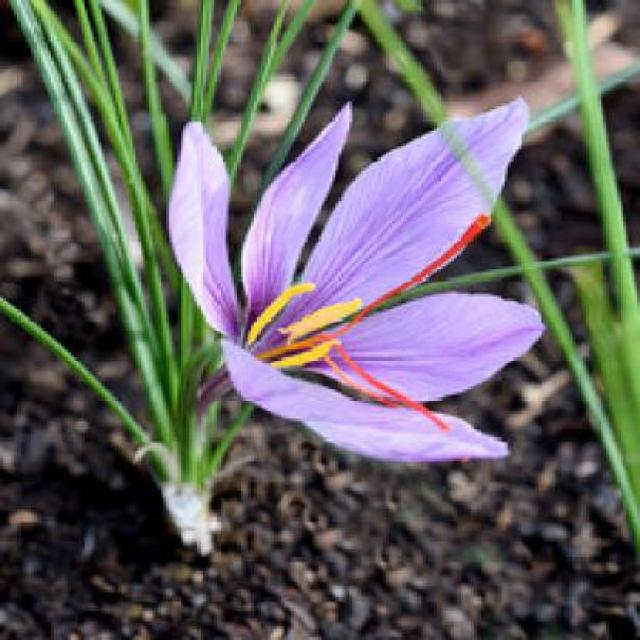Flower: (168, 97, 562, 465)
stigma: (252, 207, 499, 362), (323, 336, 452, 434), (323, 352, 399, 412)
